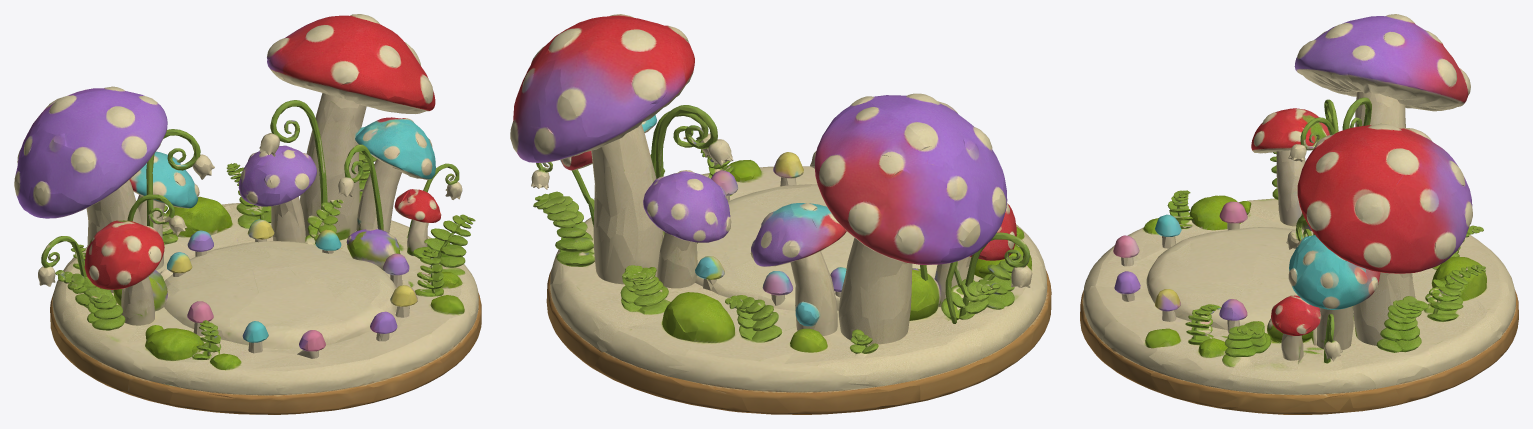
The model's file is mushroom-fairy-glade-v1.glb.
3 views of the same model, side by side, from view 1: azimuth 30°, elevation 25°; view 2: azimuth 150°, elevation 25°; view 3: azimuth 270°, elevation 25° (orthographic). The views are drawn at different scales.
Size of the model in its own units: 1.9 by 1.05 by 1.67.
Materials: 1 (1 with a texture image).
